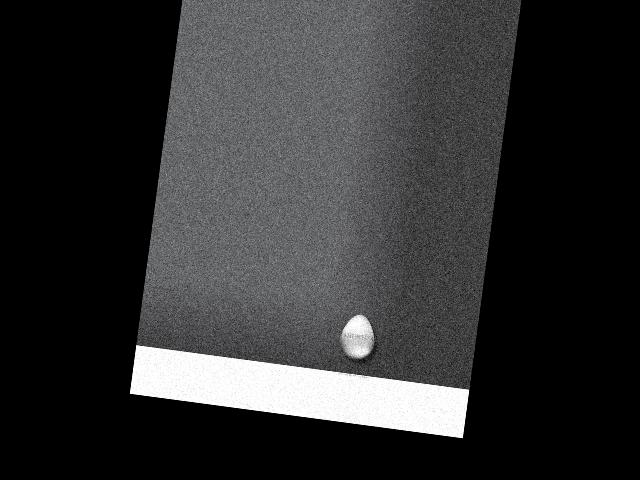egg: (337, 311, 378, 361)
